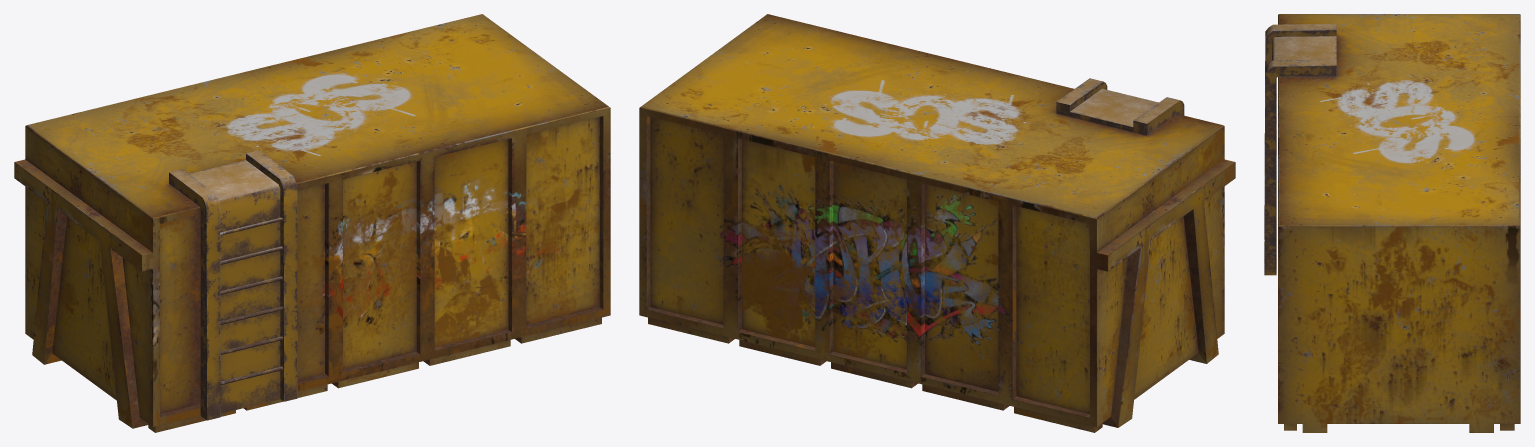
Rendered from container.fbx.
The picture shows the model from 3 angles, left to right: view 1: azimuth 30°, elevation 25°; view 2: azimuth 150°, elevation 25°; view 3: azimuth 270°, elevation 25°; orthographic projection. The views are drawn at different scales.
Parts seen in each view (by area): view 1: Cube_010, Cube_011; view 2: Cube_010, Cube_011; view 3: Cube_010, Cube_011.
Part boxes in pixels (x1=…): Cube_010: x1=14, y1=14, x2=610, y2=432; Cube_011: x1=169, y1=150, x2=297, y2=420; Cube_010: x1=639, y1=14, x2=1235, y2=432; Cube_011: x1=1056, y1=78, x2=1184, y2=135; Cube_010: x1=1278, y1=14, x2=1520, y2=432; Cube_011: x1=1264, y1=23, x2=1336, y2=275.
Size of the model in its own units: 639 by 300 by 318.
Materials: 2 (2 with a texture image).
